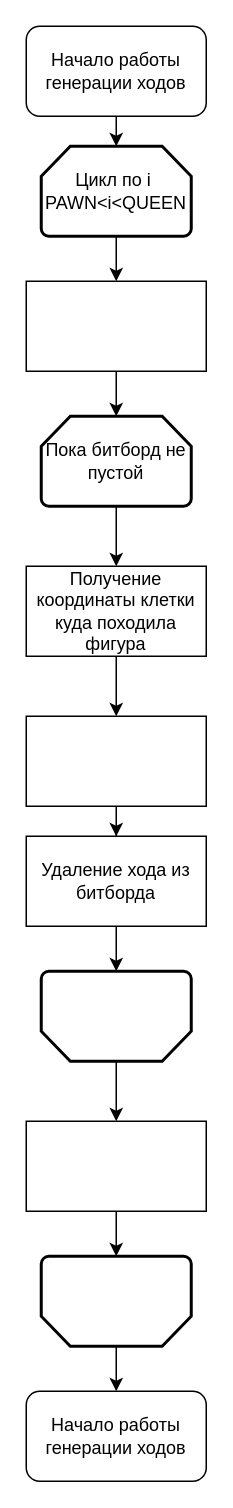
This 233x1508 diagram has some shape labels left out. Here are the shapes that lost their labels. From the top down, the box of each, then its label:
(25, 280, 206, 371): Получение битборда ходов
(25, 715, 206, 806): Запись параметров хода и добавление его в массив
(25, 1120, 206, 1211): I++
